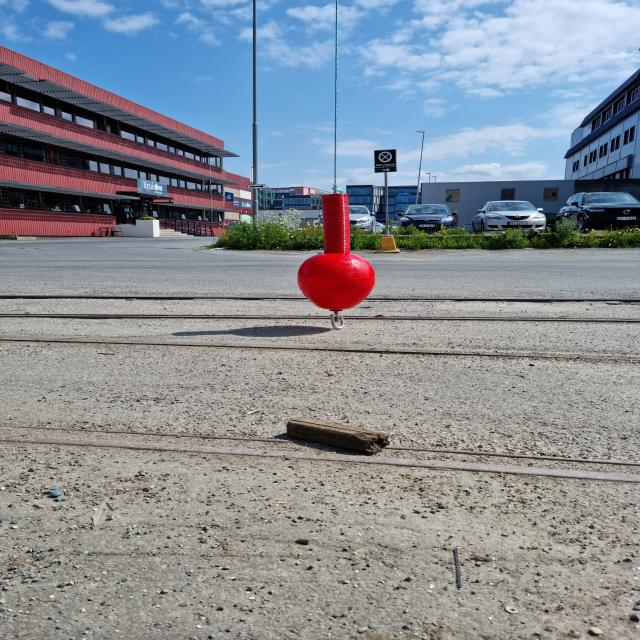red: (298, 195, 376, 310)
